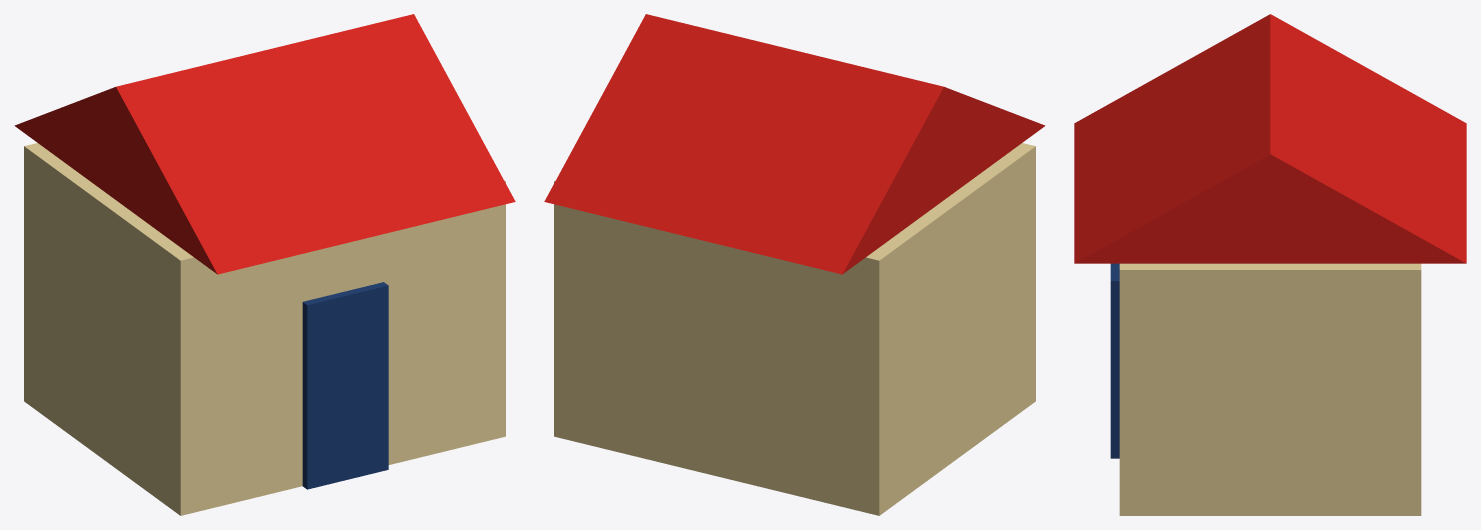
Rendered from beach_hut.glb.
The picture shows the model from 3 angles, left to right: view 1: azimuth 30°, elevation 25°; view 2: azimuth 150°, elevation 25°; view 3: azimuth 270°, elevation 25°; orthographic projection. The views are drawn at different scales.
Parts seen in each view (by area): view 1: beach_hut; view 2: beach_hut; view 3: beach_hut.
Boxes of the visible parts, <box> form: beach_hut: <box>14,14,515,515</box>; beach_hut: <box>544,14,1045,515</box>; beach_hut: <box>1074,14,1466,515</box>.
Bounding box in the file's own units: 2.4 × 2.6 × 2.6.
